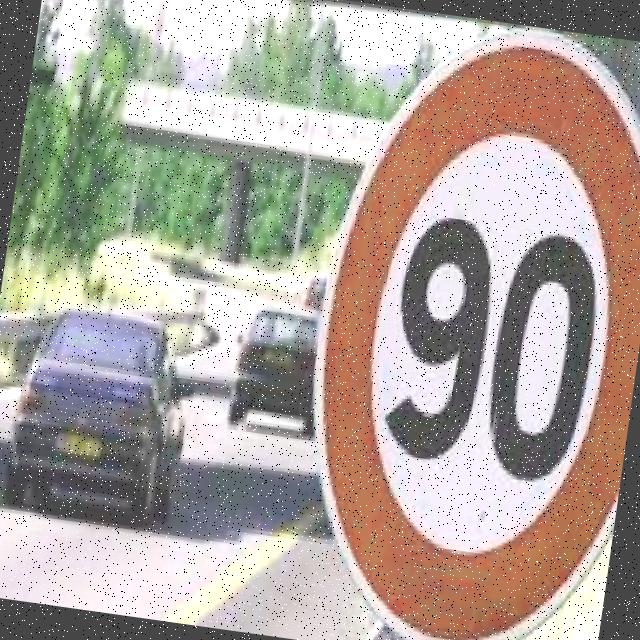Ograniczenie predkosci do 90: (300, 14, 640, 640)
